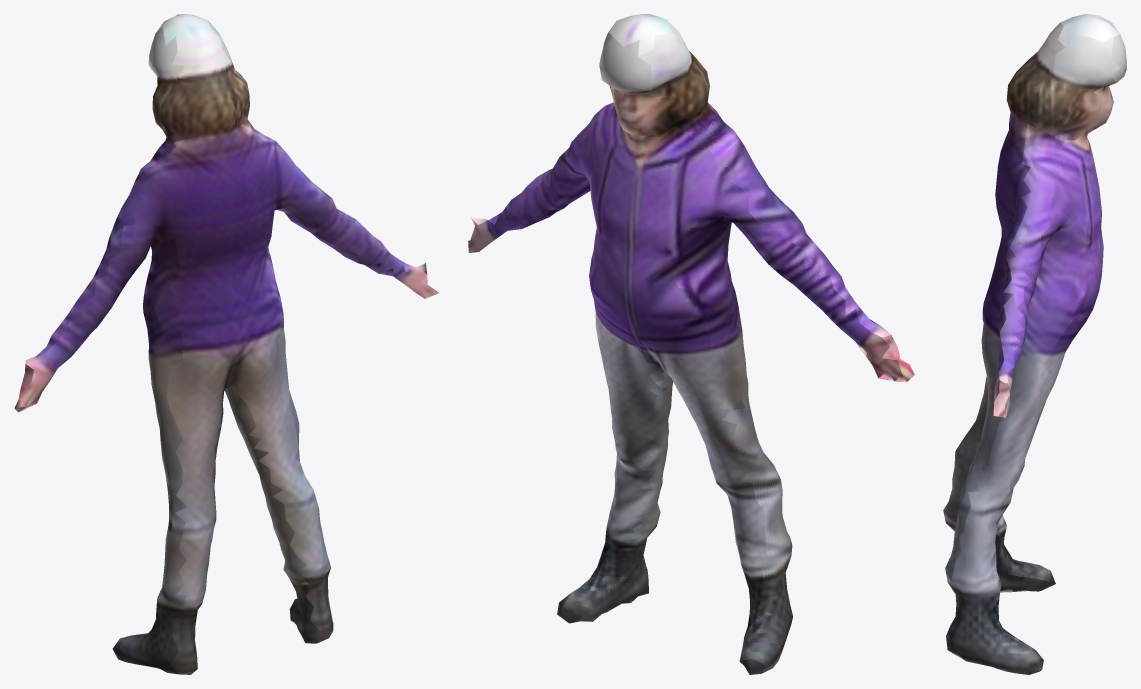
3 renders of one model, left to right at view 1: azimuth 30°, elevation 25°; view 2: azimuth 150°, elevation 25°; view 3: azimuth 270°, elevation 25°, orthographic. The views are drawn at different scales.
Parts seen in each view (by area): view 1: world; view 2: world; view 3: world.
Boxes of the visible parts, <box> form: world: <box>14,14,438,674</box>; world: <box>468,14,914,674</box>; world: <box>943,14,1126,674</box>.
Size of the model in its own units: 0.7337 by 1.01 by 0.2743.
1 material, 1 textured.
